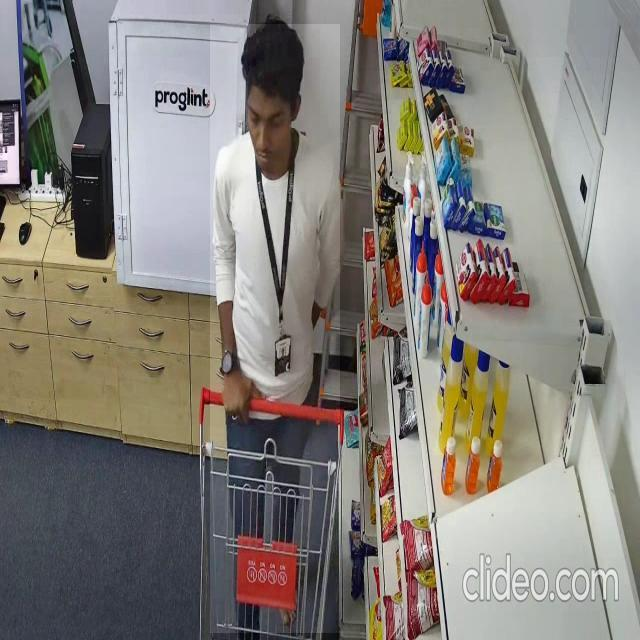Shoplifting: (211, 24, 341, 633)
